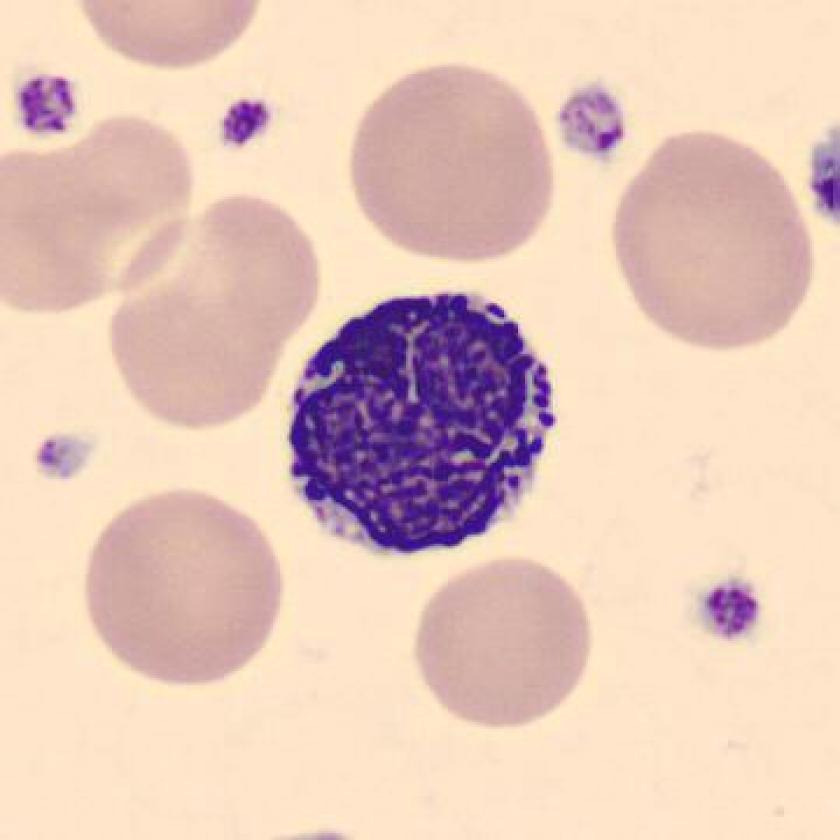basophil: (281, 277, 566, 564)
